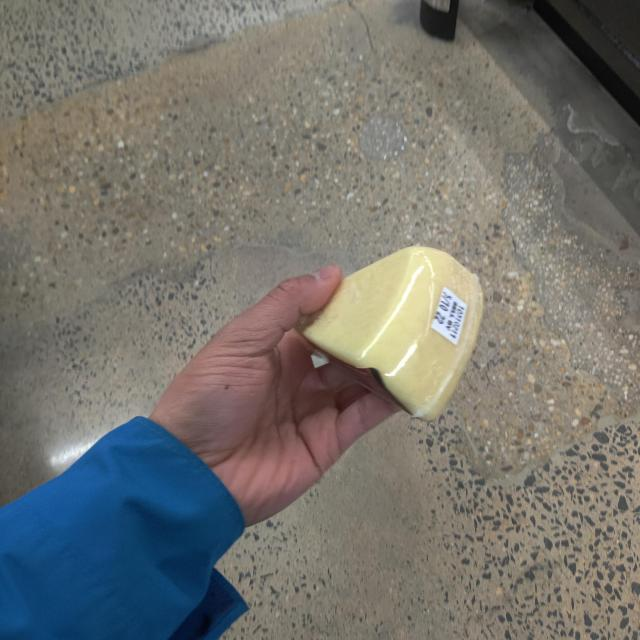Cheese: (293, 226, 502, 417)
